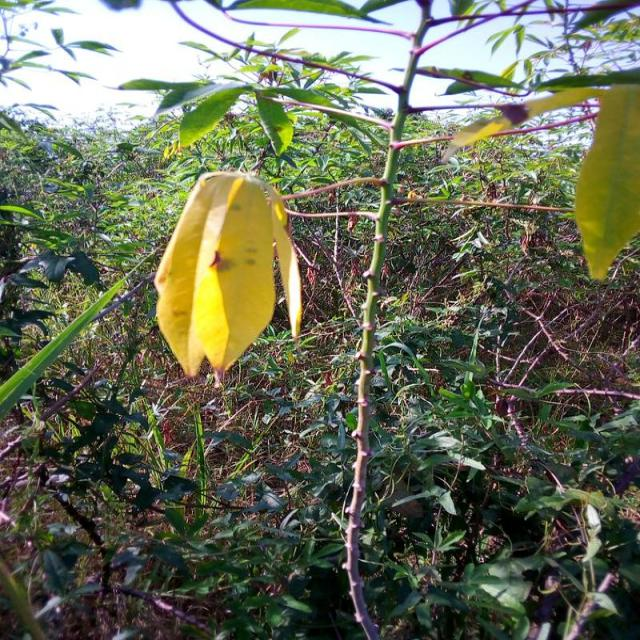cassava leaf: (153, 168, 301, 383), (573, 81, 638, 283)
